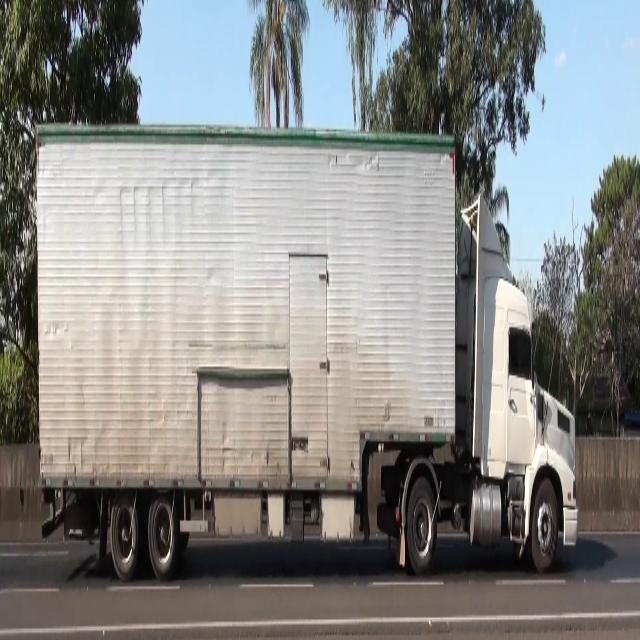-axle: (403, 478, 438, 578), (527, 481, 559, 573), (147, 487, 177, 581), (111, 489, 139, 586)
